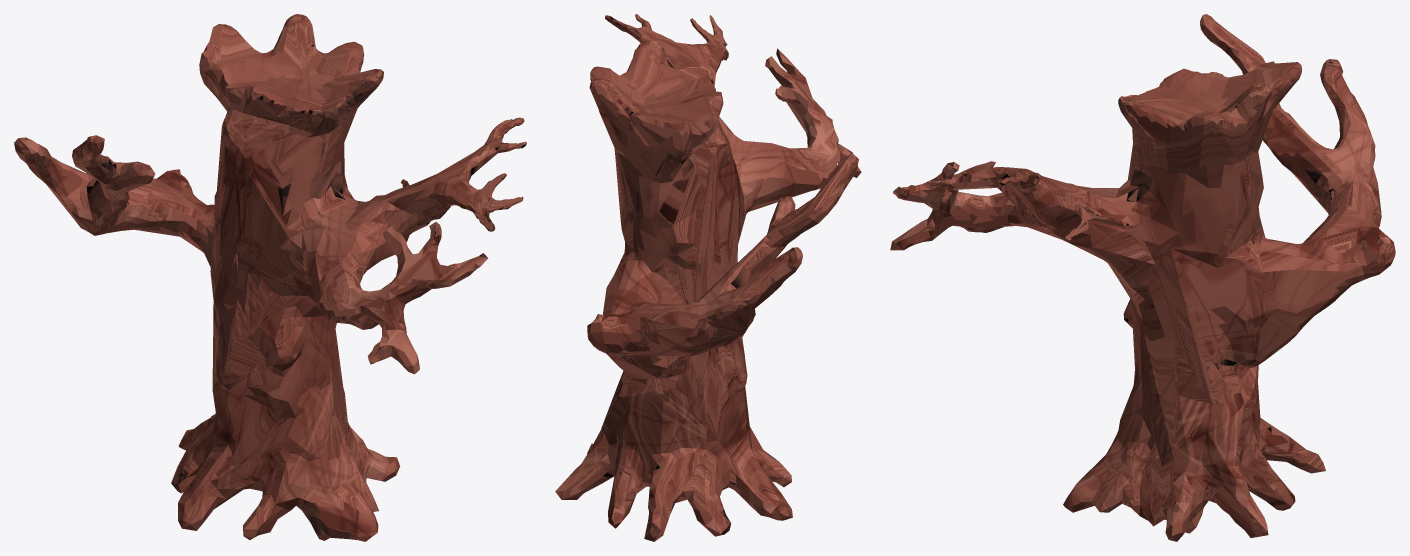
Rendered from tree01.fbx.
The picture shows the model from 3 angles, left to right: view 1: azimuth 30°, elevation 25°; view 2: azimuth 150°, elevation 25°; view 3: azimuth 270°, elevation 25°; orthographic projection. The views are drawn at different scales.
Visible parts, largest first — view 1: Cylinder; view 2: Cylinder; view 3: Cylinder.
Boxes of the visible parts, x1=… form: Cylinder: x1=14, y1=14, x2=526, y2=541; Cylinder: x1=555, y1=14, x2=861, y2=541; Cylinder: x1=890, y1=14, x2=1395, y2=541.
Size of the model in its own units: 650 by 796 by 814.
